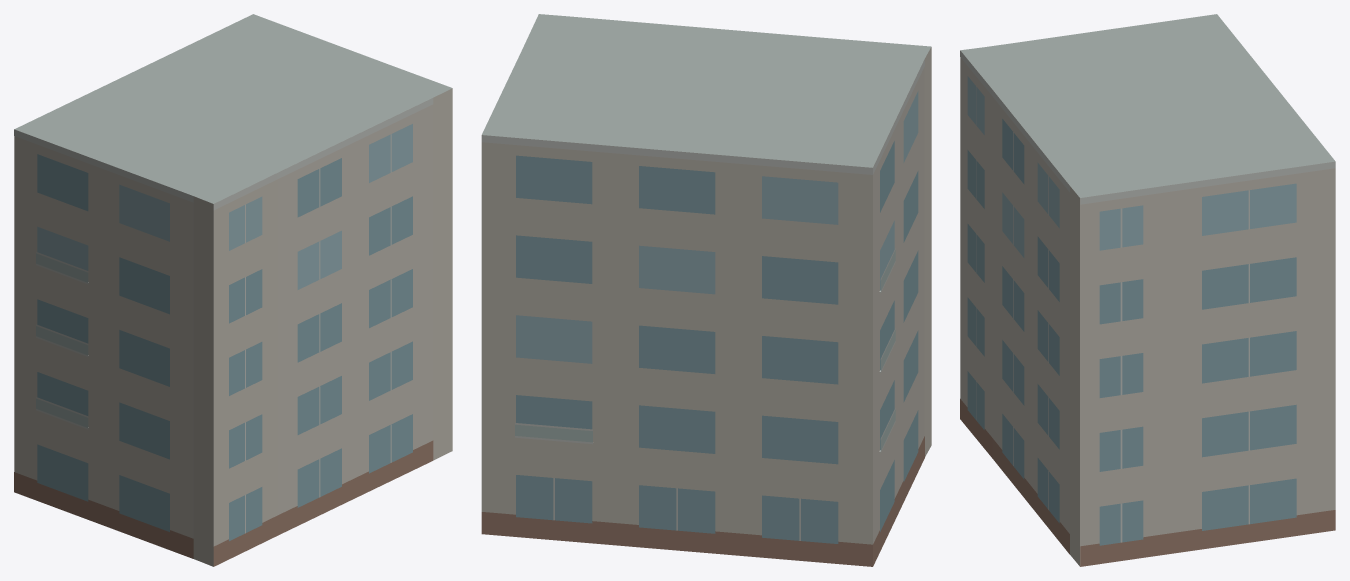
The model's file is survey-upis-32612799.glb.
3 views of the same model, side by side, from view 1: azimuth 30°, elevation 25°; view 2: azimuth 150°, elevation 25°; view 3: azimuth 270°, elevation 25° (orthographic). The views are drawn at different scales.
Visible parts, largest first — view 1: survey-upis-32612799.tmp; view 2: survey-upis-32612799.tmp; view 3: survey-upis-32612799.tmp.
Part boxes in pixels (x1,y1,x2,y2): survey-upis-32612799.tmp: (14,14,452,566); survey-upis-32612799.tmp: (481,14,931,566); survey-upis-32612799.tmp: (960,14,1335,566).
Size of the model in its own units: 14.46 by 13.5 by 12.47.
